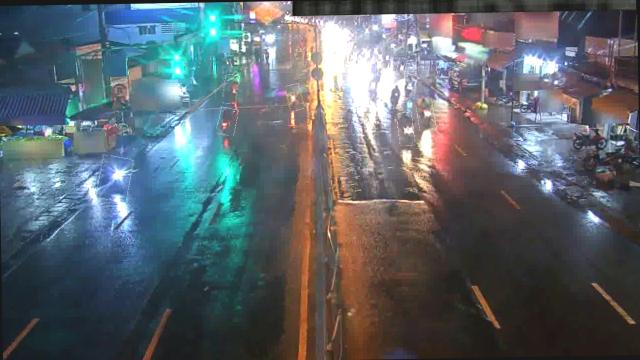Bike: (98, 155, 132, 202), (570, 128, 610, 154), (416, 98, 436, 130), (396, 112, 414, 146), (217, 106, 237, 134), (222, 74, 238, 105), (286, 84, 302, 109), (387, 83, 402, 108), (402, 74, 417, 99), (366, 74, 381, 98), (397, 57, 407, 74)
